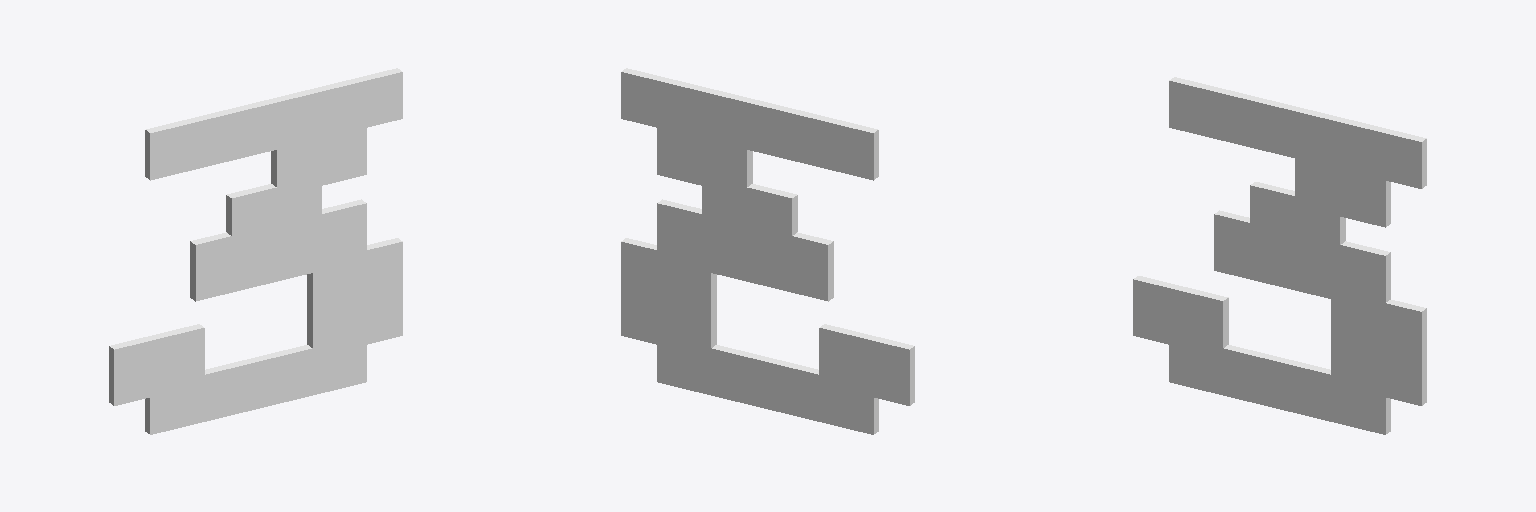
3 renders of one model, left to right at view 1: azimuth 30°, elevation 25°; view 2: azimuth 150°, elevation 25°; view 3: azimuth 330°, elevation 25°, orthographic.
Parts seen in each view (by area): view 1: ch_3_32; view 2: ch_3_32; view 3: ch_3_32.
Part boxes in pixels (bbox=[...]): ch_3_32: bbox=[109, 68, 402, 434]; ch_3_32: bbox=[621, 68, 914, 434]; ch_3_32: bbox=[1133, 77, 1426, 434].
Bounding box in the file's own units: 32 × 32 × 1.